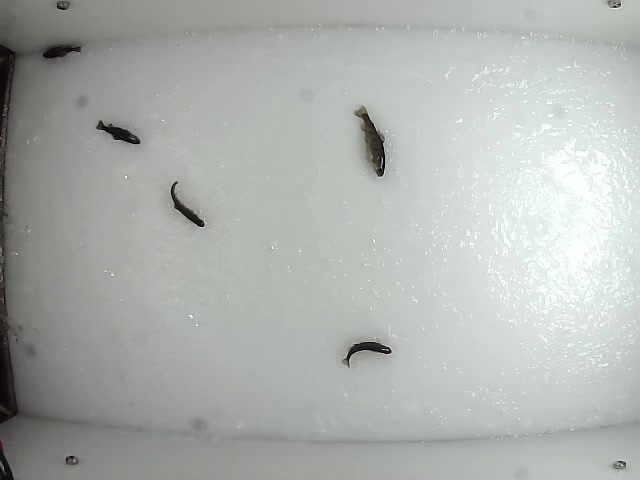fish: (352, 103, 387, 179), (169, 179, 207, 229), (339, 340, 392, 369), (94, 120, 142, 144), (39, 41, 84, 60)
